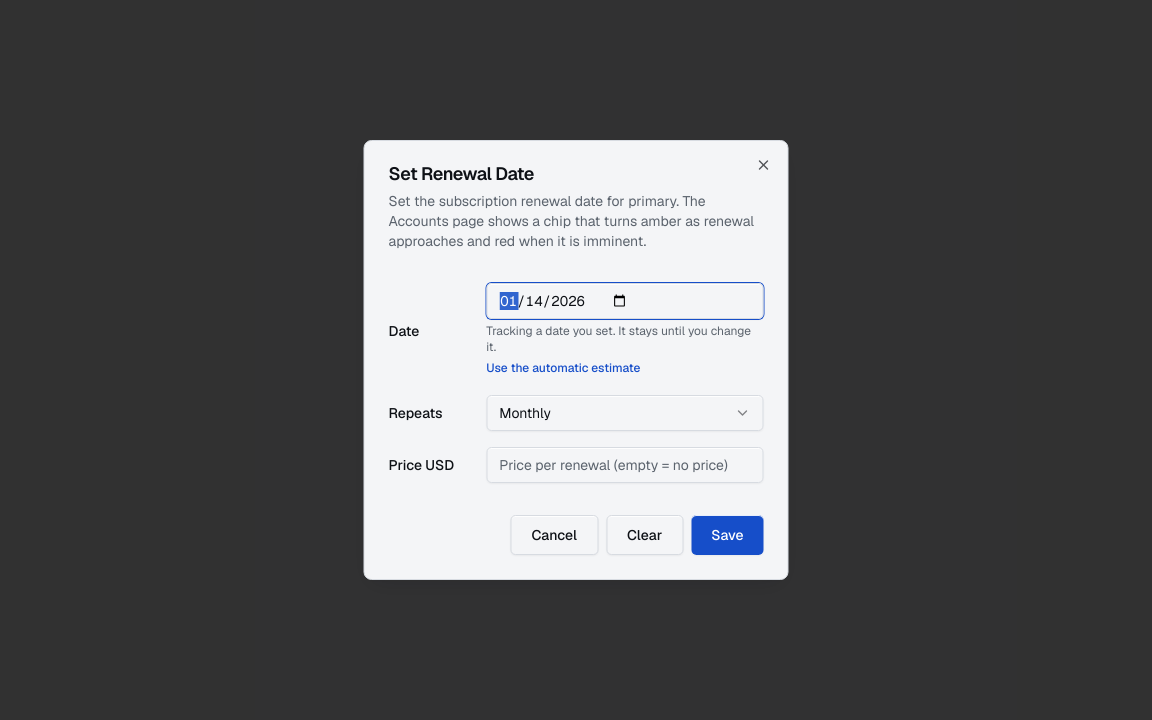
Test: AccountRenewalDialog — handing tracking back to automatic › keeps the dialog open when the hand-back fails, and shows why
This screenshot has width=1152, height=720.
Step 1. Click the button "Use the automatic estimate" → (563, 368), box top-left (486, 360), bottom-right (640, 376)
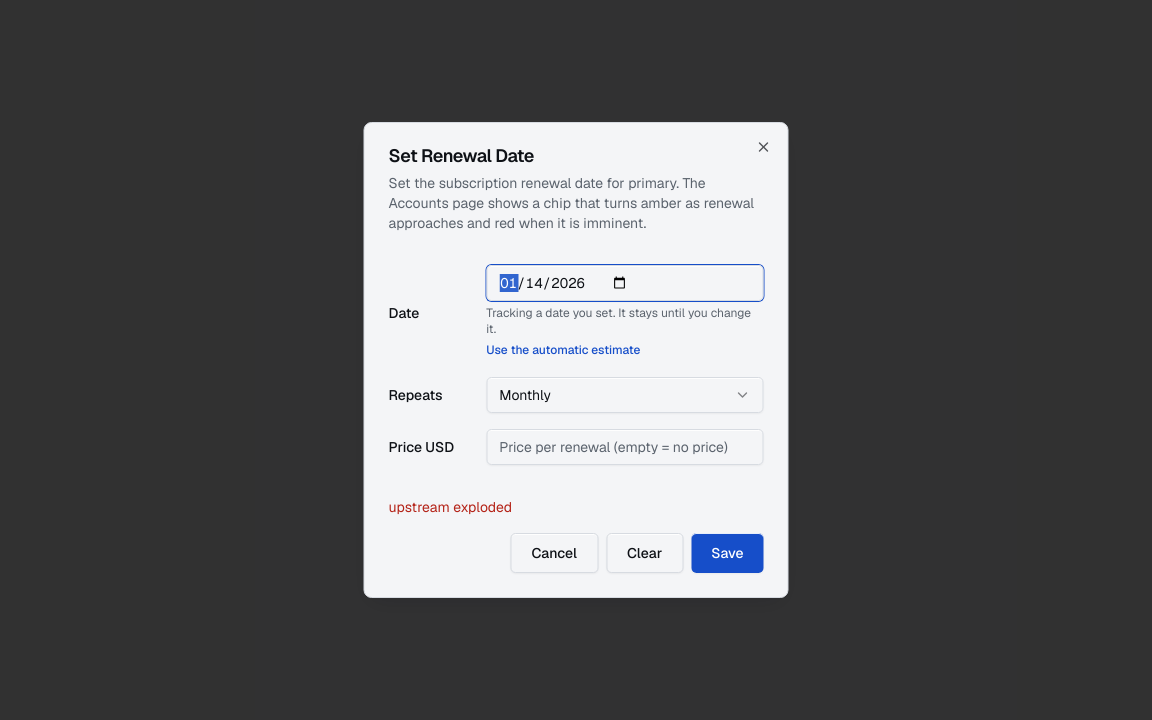
Now the message "upstream exploded" is shown, box top-left (388, 498), bottom-right (512, 516)
